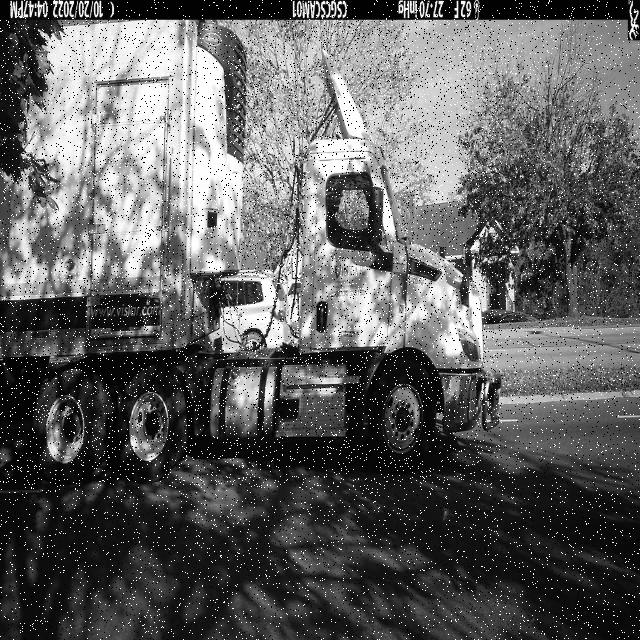Tractor Trailer: (0, 20, 503, 486)
